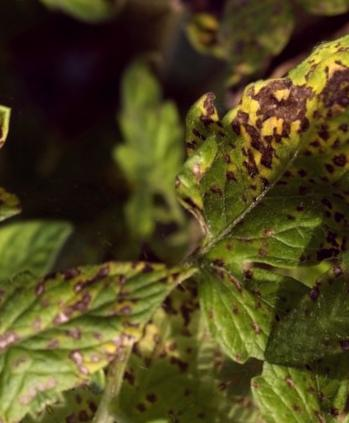Tomato Septoria leaf spot: (129, 6, 349, 311), (0, 187, 220, 406), (0, 105, 97, 305)
